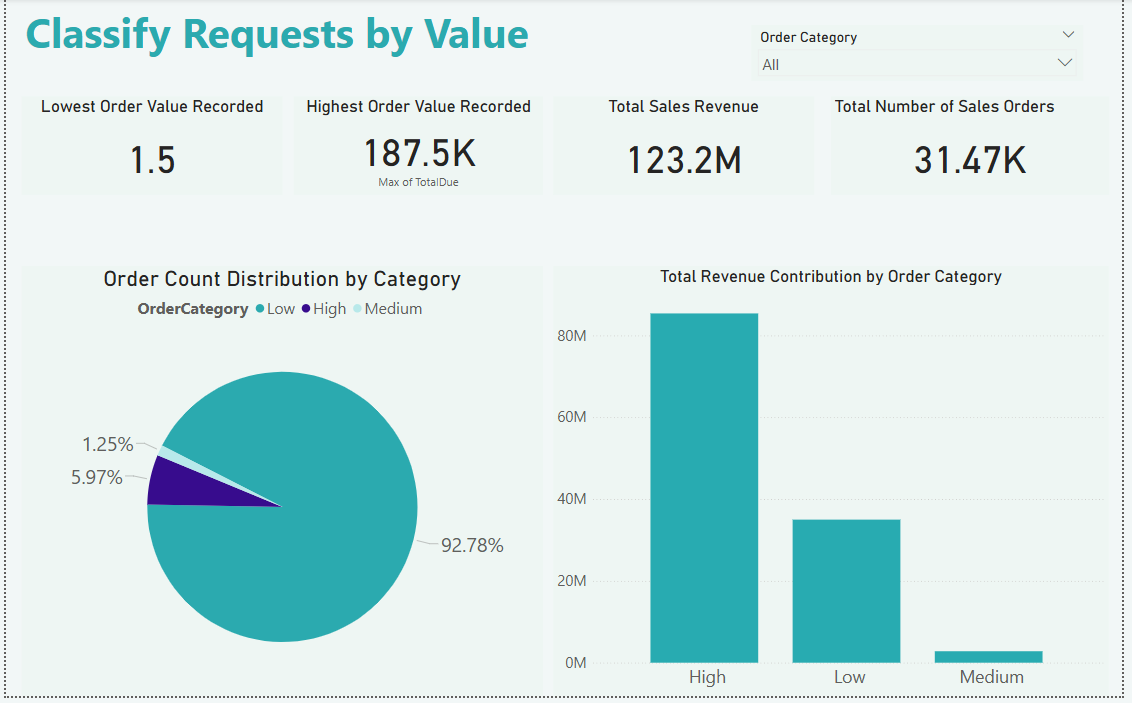

This screenshot's page, from the dashboard's own definition file:
{"tool":"powerbi","page":{"name":"Classify Requests by Value","canvas":[1600,1000],"ordinal":3},"visuals":[{"type":"card","title":"Total Number of Sales Orders","fields":{"Values":["CountNonNull(Classify requests by value clean.SalesOrderID)"]},"box":[1182.8,141,398.4,141],"z":0},{"type":"card","title":"Total Sales Revenue","fields":{"Values":["Sum(Classify requests by value clean.TotalDue)"]},"box":[784.4,141,373.8,141],"z":1000},{"type":"card","title":"Highest Order Value Recorded","fields":{"Values":["Max(Classify requests by value clean.TotalDue)"]},"box":[412.7,141,357.5,141],"z":2000},{"type":"card","title":"Lowest Order Value Recorded","fields":{"Values":["Min(Classify requests by value clean.TotalDue)"]},"box":[22.5,141,373.8,141],"z":3000},{"type":"pieChart","title":" Order Count Distribution by Category","fields":{"Y":["CountNonNull(Classify requests by value clean.SalesOrderID)"],"Category":["Classify requests by value clean.OrderCategory"]},"box":[22.5,384.1,747.7,616.9],"z":4000},{"type":"clusteredColumnChart","title":" Total Revenue Contribution by Order Category","fields":{"Category":["Classify requests by value clean.OrderCategory"],"Y":["Sum(Classify requests by value clean.TotalDue)"]},"box":[784.4,384.1,796.7,616.9],"z":5000},{"type":"textbox","box":[22.5,4.1,800.8,114.4],"z":6000},{"type":"slicer","fields":{"Values":["Classify requests by value clean.OrderCategory"]},"box":[1068.4,38.8,476,79.7],"z":7000}]}

Visuals, with their boxes in screenshot pixels (x1, y1, x2, y2), scaled from the page's 1600x1000 canvas onto the 1132x703 screenshot:
"Total Number of Sales Orders" card: rect(837, 99, 1119, 198)
"Total Sales Revenue" card: rect(555, 99, 819, 198)
"Highest Order Value Recorded" card: rect(292, 99, 545, 198)
"Lowest Order Value Recorded" card: rect(16, 99, 280, 198)
" Order Count Distribution by Category" pieChart: rect(16, 270, 545, 702)
" Total Revenue Contribution by Order Category" clusteredColumnChart: rect(555, 270, 1119, 702)
textbox: rect(16, 3, 582, 83)
slicer - Classify requests by value clean.OrderCategory: rect(756, 27, 1093, 83)
